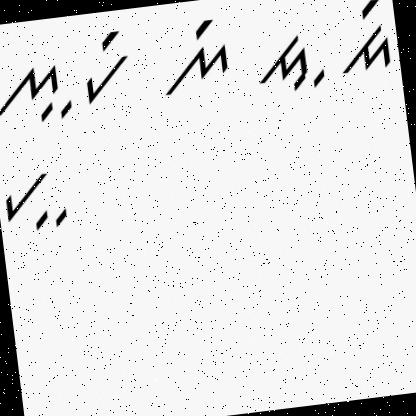dah: (251, 19, 332, 97)
dang: (332, 0, 397, 78)
nah: (0, 52, 77, 135)
nang: (149, 14, 236, 98)
pah: (0, 163, 74, 236)
pang: (76, 25, 136, 109)
